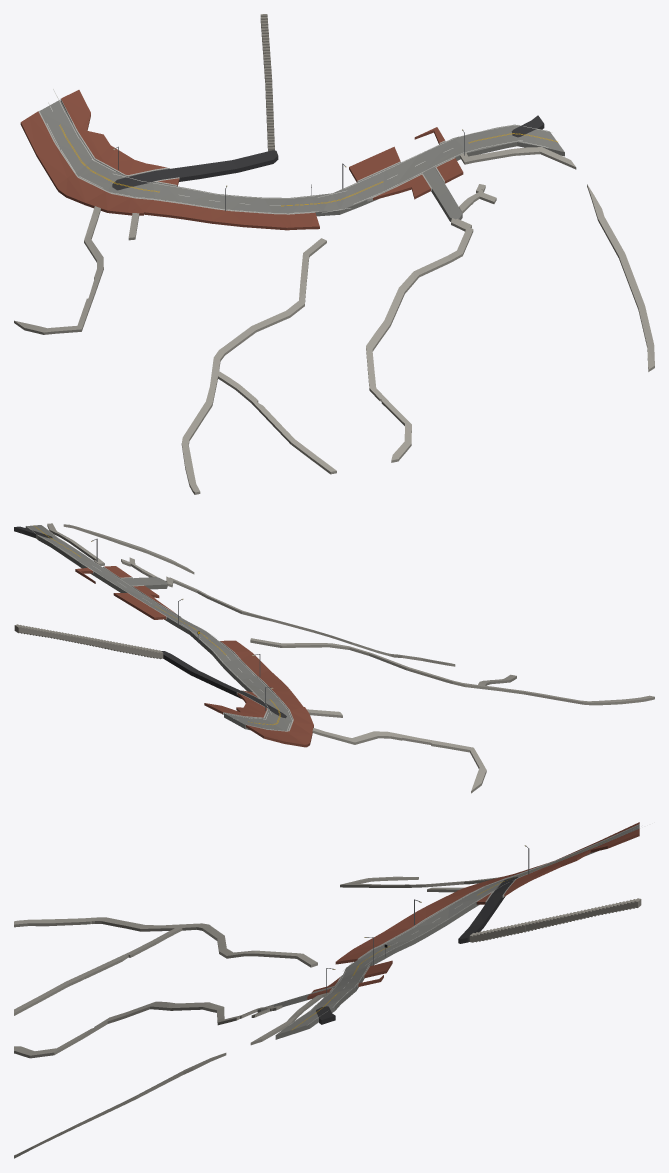
The picture shows the model from 3 angles, top to bottom: view 1: azimuth 30°, elevation 25°; view 2: azimuth 150°, elevation 25°; view 3: azimuth 270°, elevation 25°; orthographic projection. The views are drawn at different scales.
Bounding box in the file's own units: 147 × 59.7 × 149.
